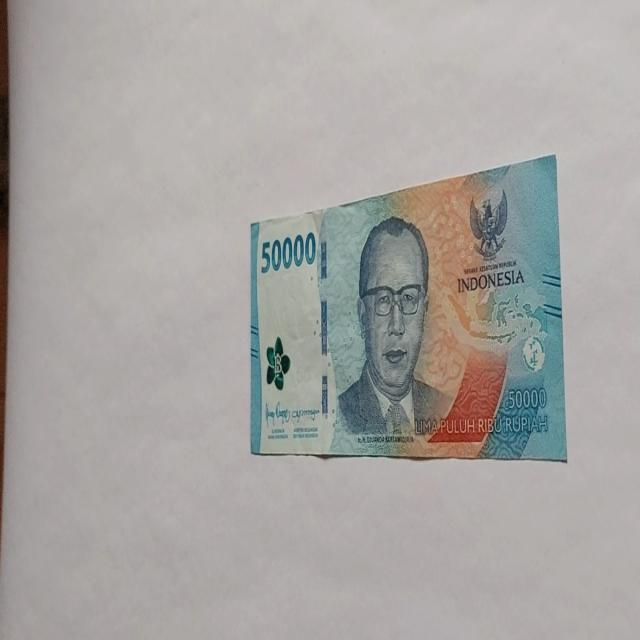lima puluh ribu rupiah: (248, 154, 566, 462), (335, 214, 453, 440)
